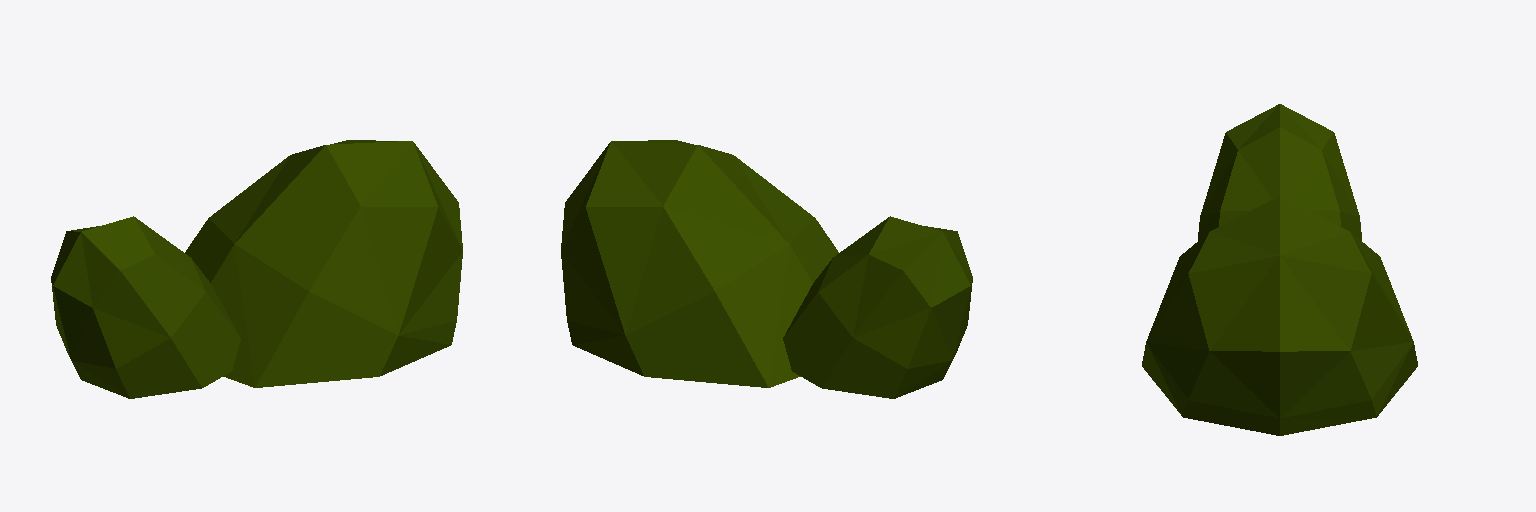
The model's file is Grass_2.obj.
3 views of the same model, side by side, from view 1: azimuth 30°, elevation 25°; view 2: azimuth 150°, elevation 25°; view 3: azimuth 270°, elevation 25° (orthographic).
Parts seen in each view (by area): view 1: Grass_2_Cube.215; view 2: Grass_2_Cube.215; view 3: Grass_2_Cube.215.
Part boxes in pixels (bbox=[...]): Grass_2_Cube.215: bbox=[51, 140, 462, 398]; Grass_2_Cube.215: bbox=[561, 140, 972, 398]; Grass_2_Cube.215: bbox=[1142, 104, 1417, 435].
Bounding box in the file's own units: 1.07 × 0.4746 × 0.6324.